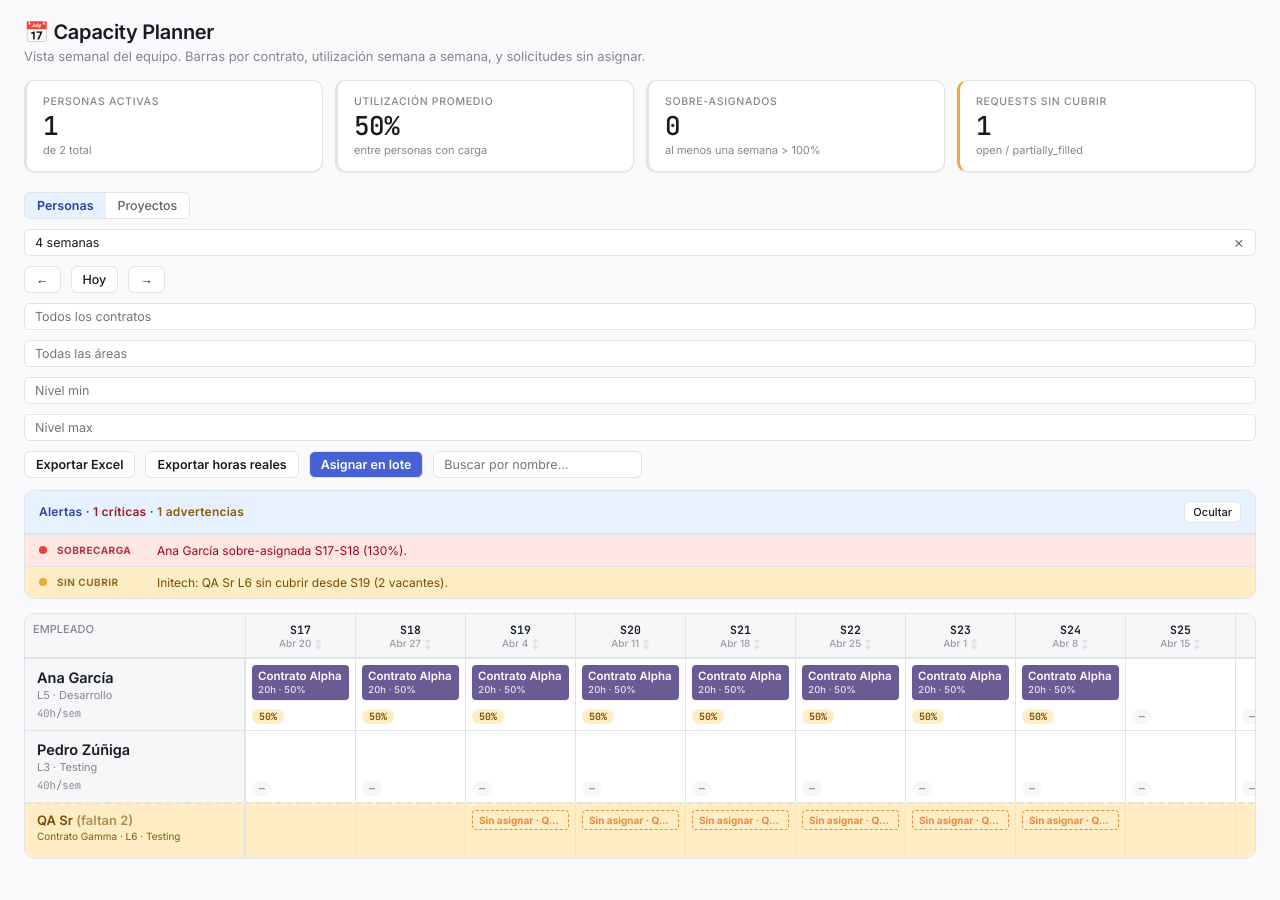
Test: CapacityPlanner module › SPEC-006/Spec3 — range selector defaults to 4 weeks and updates URL on change
Expected: the element with test id "emp-row-e1" is shown, [25,658,1255,730]
Click the dropdown named "Rango de semanas".
click(640, 242)  # box [24,229,1256,256]
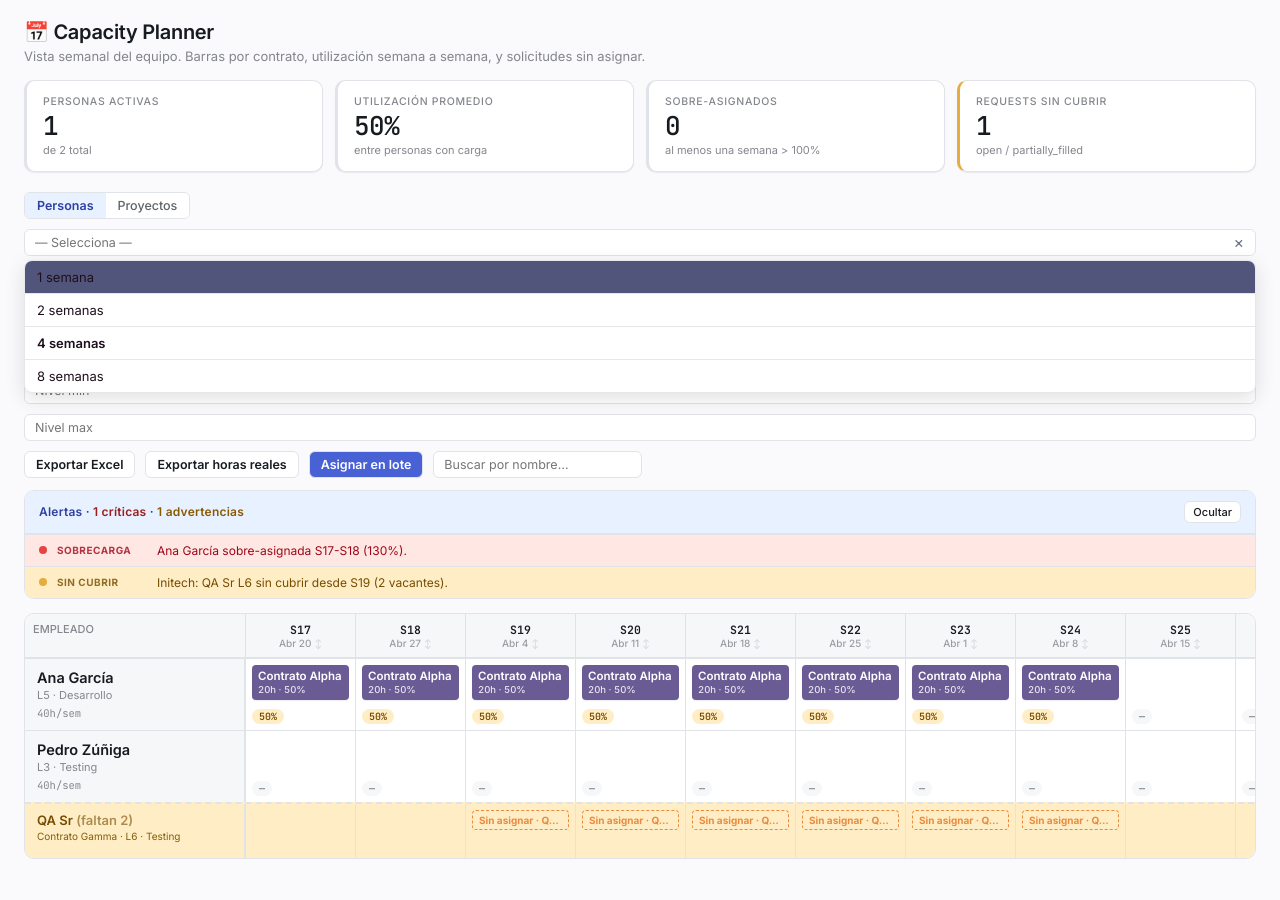
Now the list is shown, box [24,260,1256,393]
Now the list shows "1 semana", box [37,269,94,285]
Now the list shows "8 semanas", box [37,368,104,384]
Press Escape in the dropdown named "Rango de semanas", box [24,229,1256,256]
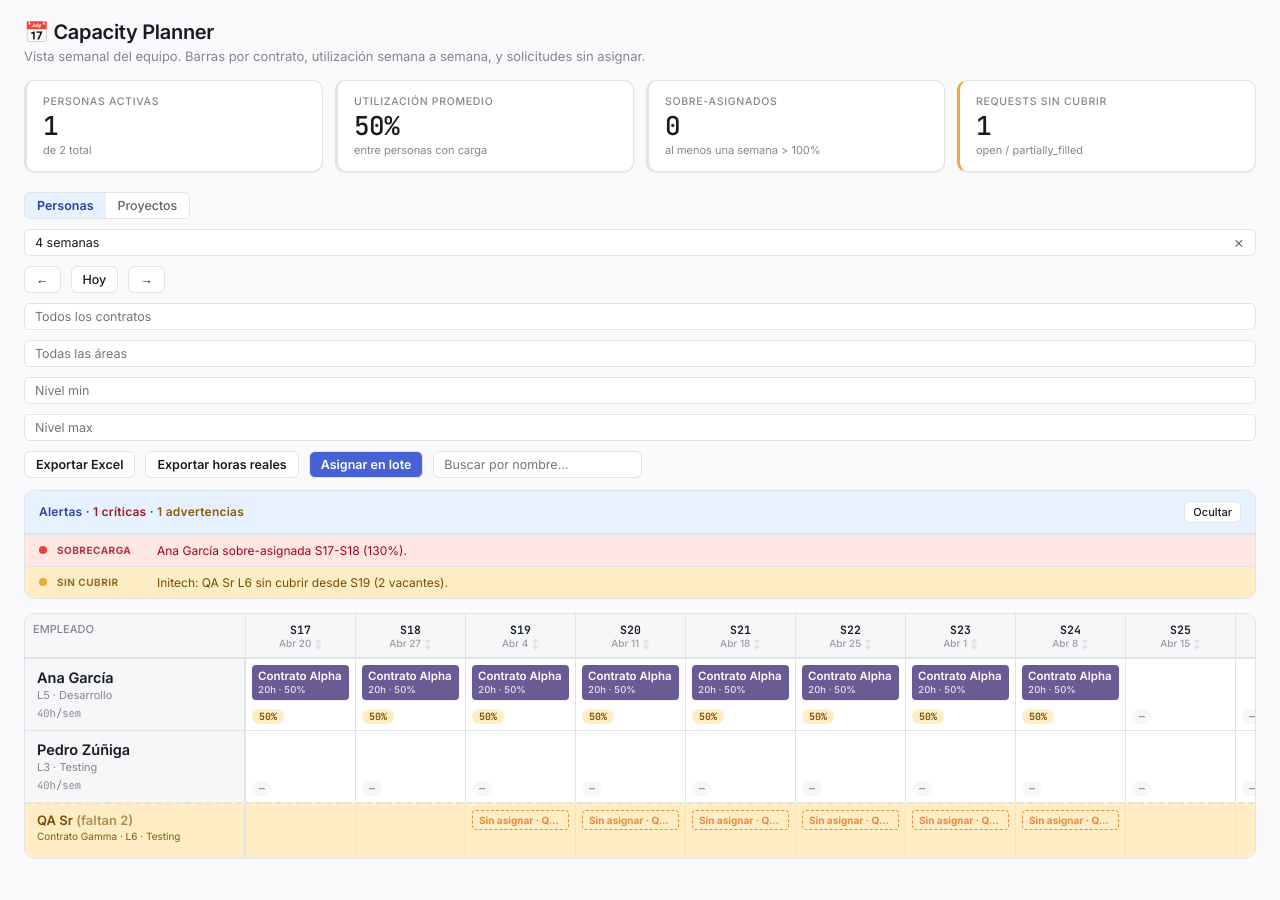
Click the dropdown named "Rango de semanas".
click(640, 242)  # box [24,229,1256,256]
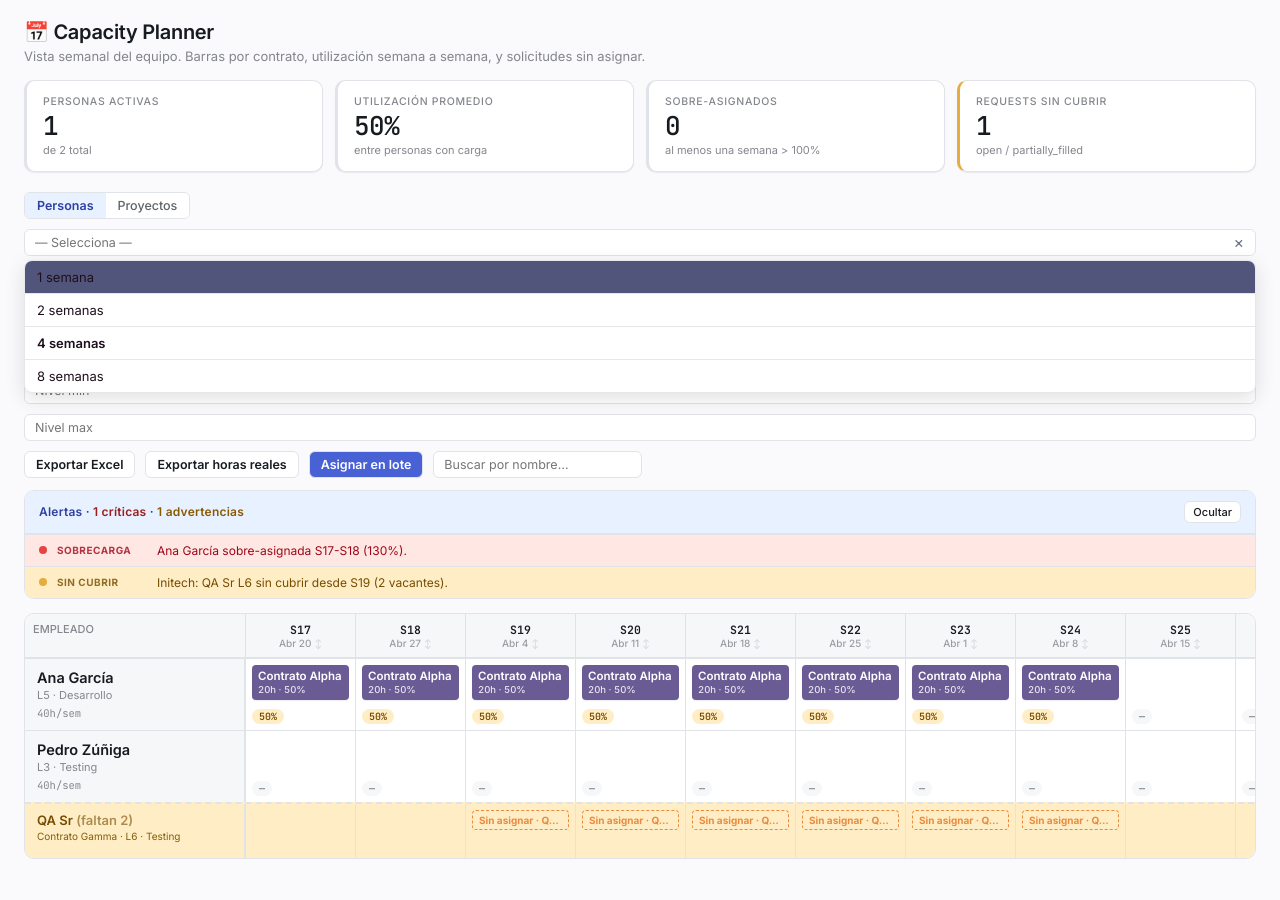
Press the mouse on the option "8 semanas" at {"x": 70, "y": 376}, box [25,359,1255,392]
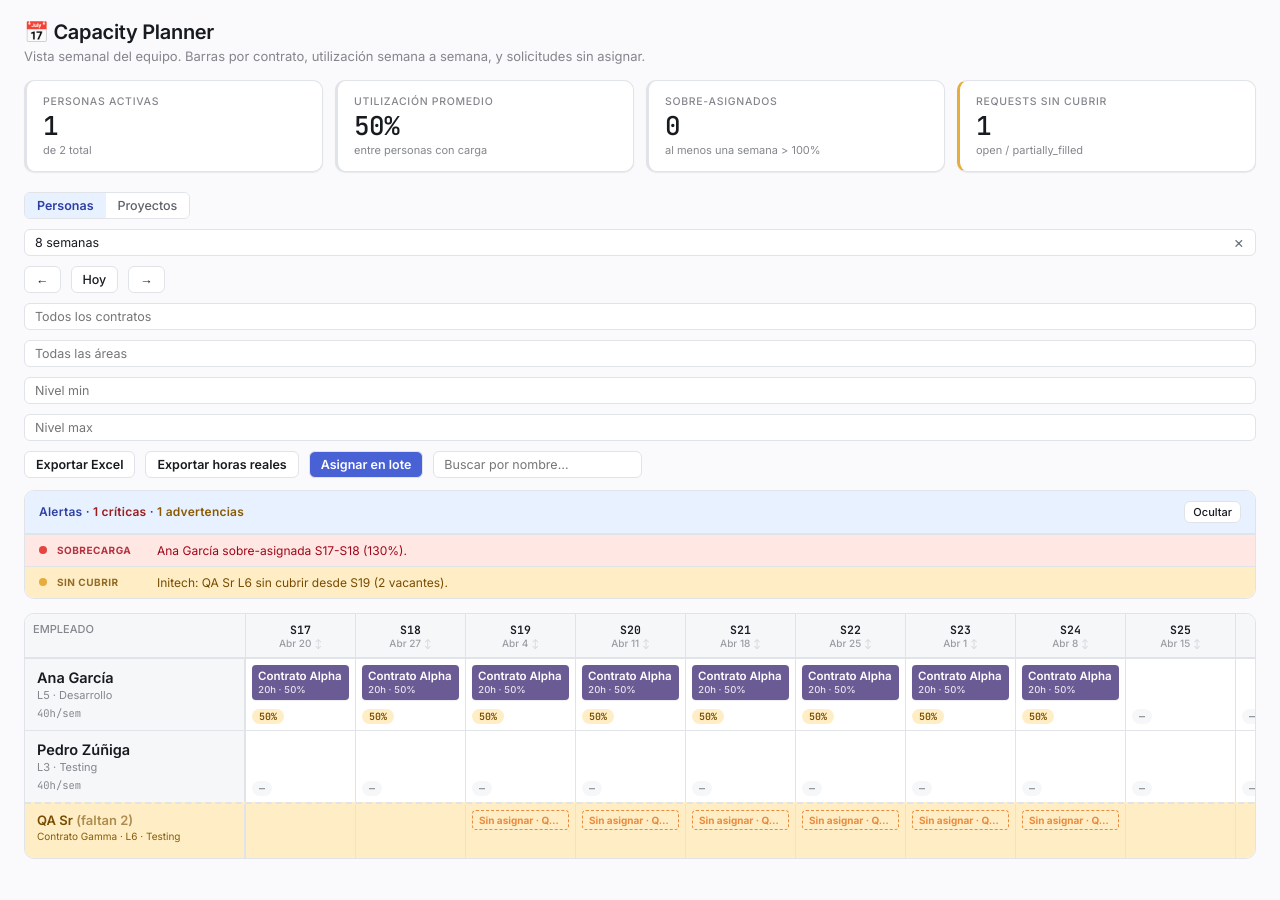
Now the button named "8 semanas adelante" is shown, box [128,266,165,293]
